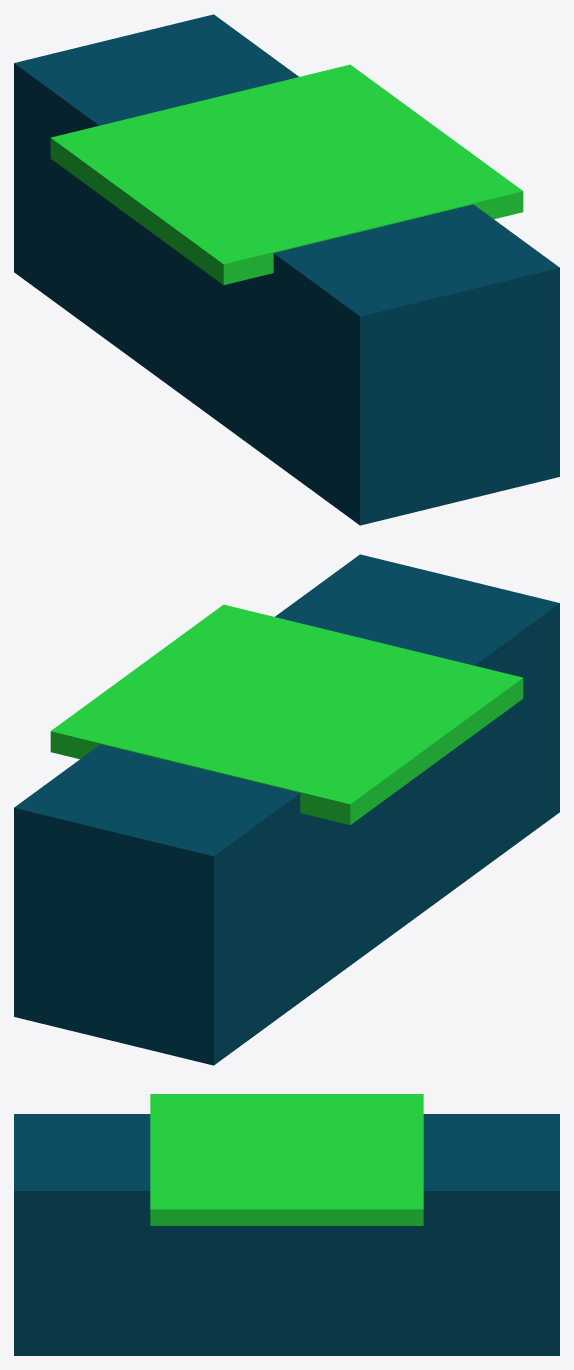
The model's file is F2InteractablePlatform4.fbx.
The picture shows the model from 3 angles, top to bottom: view 1: azimuth 30°, elevation 25°; view 2: azimuth 150°, elevation 25°; view 3: azimuth 270°, elevation 25°; orthographic projection. The views are drawn at different scales.
Visible parts, largest first — view 1: Platform.002, VinesSideBlock.002; view 2: Platform.002, VinesSideBlock.002; view 3: Platform.002, VinesSideBlock.002.
Boxes of the visible parts, <box> form: Platform.002: <box>14,14,559,525</box>; VinesSideBlock.002: <box>50,64,523,284</box>; Platform.002: <box>14,554,559,1065</box>; VinesSideBlock.002: <box>50,604,523,824</box>; Platform.002: <box>14,1114,559,1355</box>; VinesSideBlock.002: <box>150,1094,423,1225</box>.
Size of the model in its own units: 15 by 10.05 by 30.
